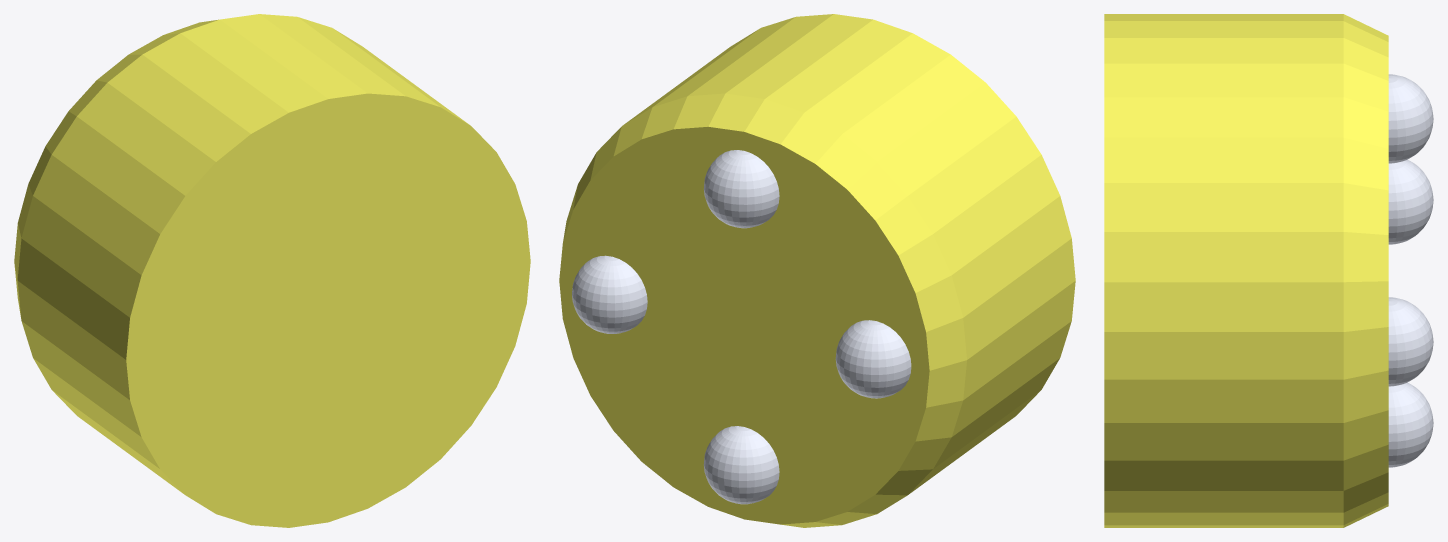
The model's file is Cylinder_One.fbx.
The picture shows the model from 3 angles, left to right: view 1: azimuth 30°, elevation 25°; view 2: azimuth 150°, elevation 25°; view 3: azimuth 270°, elevation 25°; orthographic projection. The views are drawn at different scales.
Parts seen in each view (by area): view 1: Cylinder_One; view 2: Cylinder_One, Cylinder_One_Sphere_Two, Cylinder_One_Sphere_One, Cylinder_One_Sphere_Four, Cylinder_One_Sphere_Three; view 3: Cylinder_One, Cylinder_One_Sphere_Three, Cylinder_One_Sphere_Four, Cylinder_One_Sphere_Two, Cylinder_One_Sphere_One.
Part boxes in pixels (box(x1,y1,x2,y2)): Cylinder_One: box(14, 14, 530, 527); Cylinder_One: box(559, 14, 1075, 527); Cylinder_One_Sphere_Two: box(835, 320, 911, 398); Cylinder_One_Sphere_One: box(703, 426, 779, 504); Cylinder_One_Sphere_Four: box(703, 150, 779, 228); Cylinder_One_Sphere_Three: box(572, 255, 647, 333); Cylinder_One: box(1104, 14, 1388, 527); Cylinder_One_Sphere_Three: box(1388, 297, 1433, 386); Cylinder_One_Sphere_Four: box(1388, 74, 1433, 163); Cylinder_One_Sphere_Two: box(1388, 159, 1433, 244); Cylinder_One_Sphere_One: box(1388, 382, 1433, 467).
Bounding box in the file's own units: 475 × 475 × 304.
